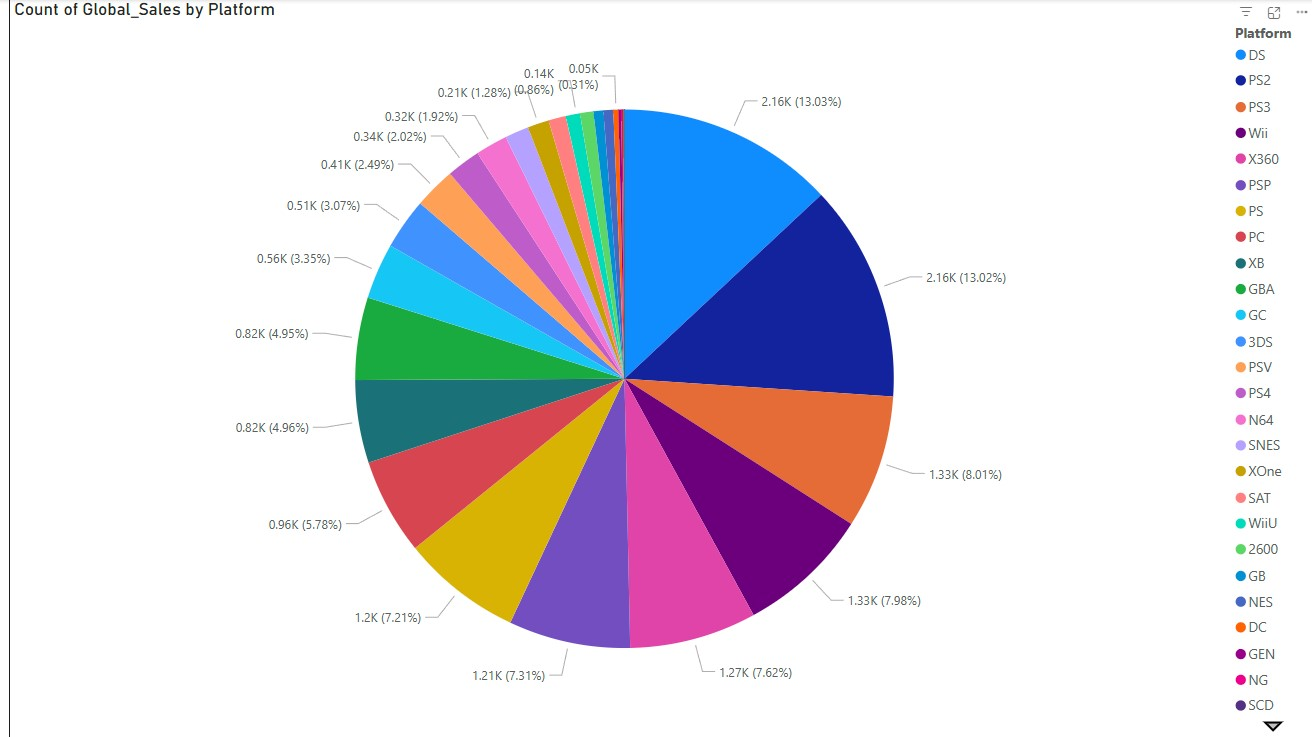

Layout of this report page (visuals, bound fields, positions):
{"tool":"powerbi","page":{"name":"Page 3","canvas":[1280,720],"ordinal":2},"visuals":[{"type":"pieChart","fields":{"Category":["vgsales.Platform"],"Y":["CountNonNull(vgsales.Global_Sales)"]},"box":[9.7,0,1270.3,719.8],"z":0}]}

Visuals, with their boxes on the page's 1280x720 design canvas (x1, y1, x2, y2). These are canvas units, not pixel positions in the 1312x737 screenshot, which may show the page scaled, cropped or inside an application window:
pieChart - vgsales.Platform x CountNonNull(vgsales.Global_Sales): left=10, top=0, right=1280, bottom=720
